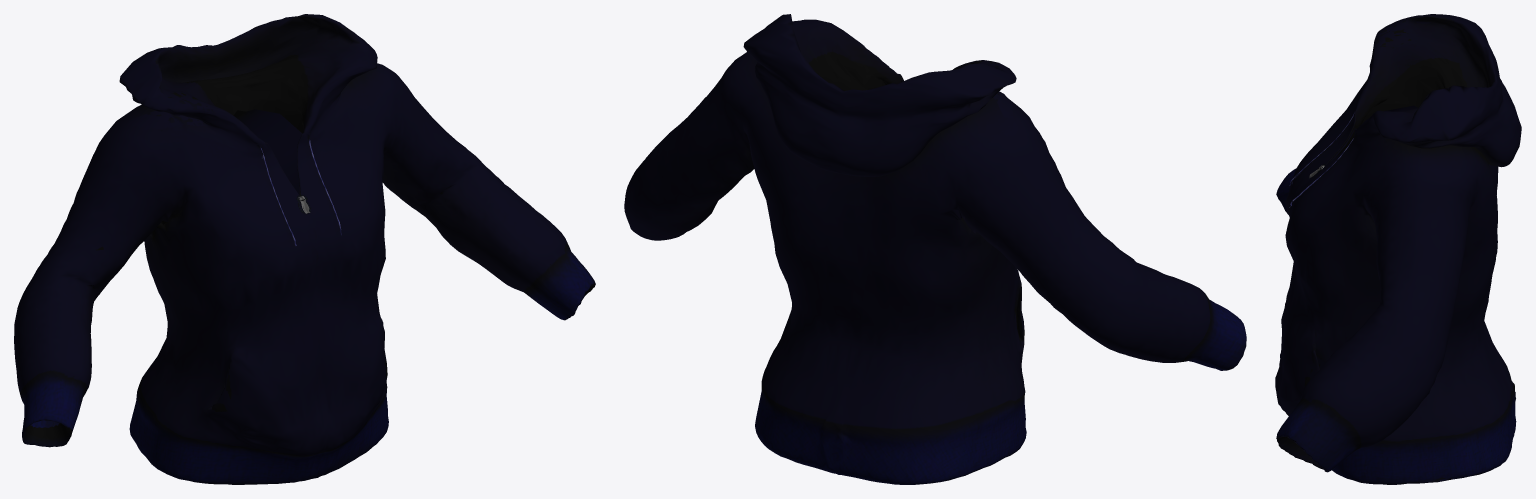
Rendered from ONFIT_HoodedJacket_BodyBuild_v3.glb.
3 views of the same model, side by side, from view 1: azimuth 30°, elevation 25°; view 2: azimuth 150°, elevation 25°; view 3: azimuth 270°, elevation 25° (orthographic). The views are drawn at different scales.
Parts seen in each view (by area): view 1: ONFIT_HoodedJacket; view 2: ONFIT_HoodedJacket; view 3: ONFIT_HoodedJacket.
Boxes of the visible parts, x1,y1,x2,y2 form: ONFIT_HoodedJacket: (14, 14, 595, 484); ONFIT_HoodedJacket: (624, 14, 1246, 484); ONFIT_HoodedJacket: (1275, 14, 1521, 484).
Size of the model in its own units: 0.9705 by 0.6384 by 0.3675.
1 material, 1 textured.
